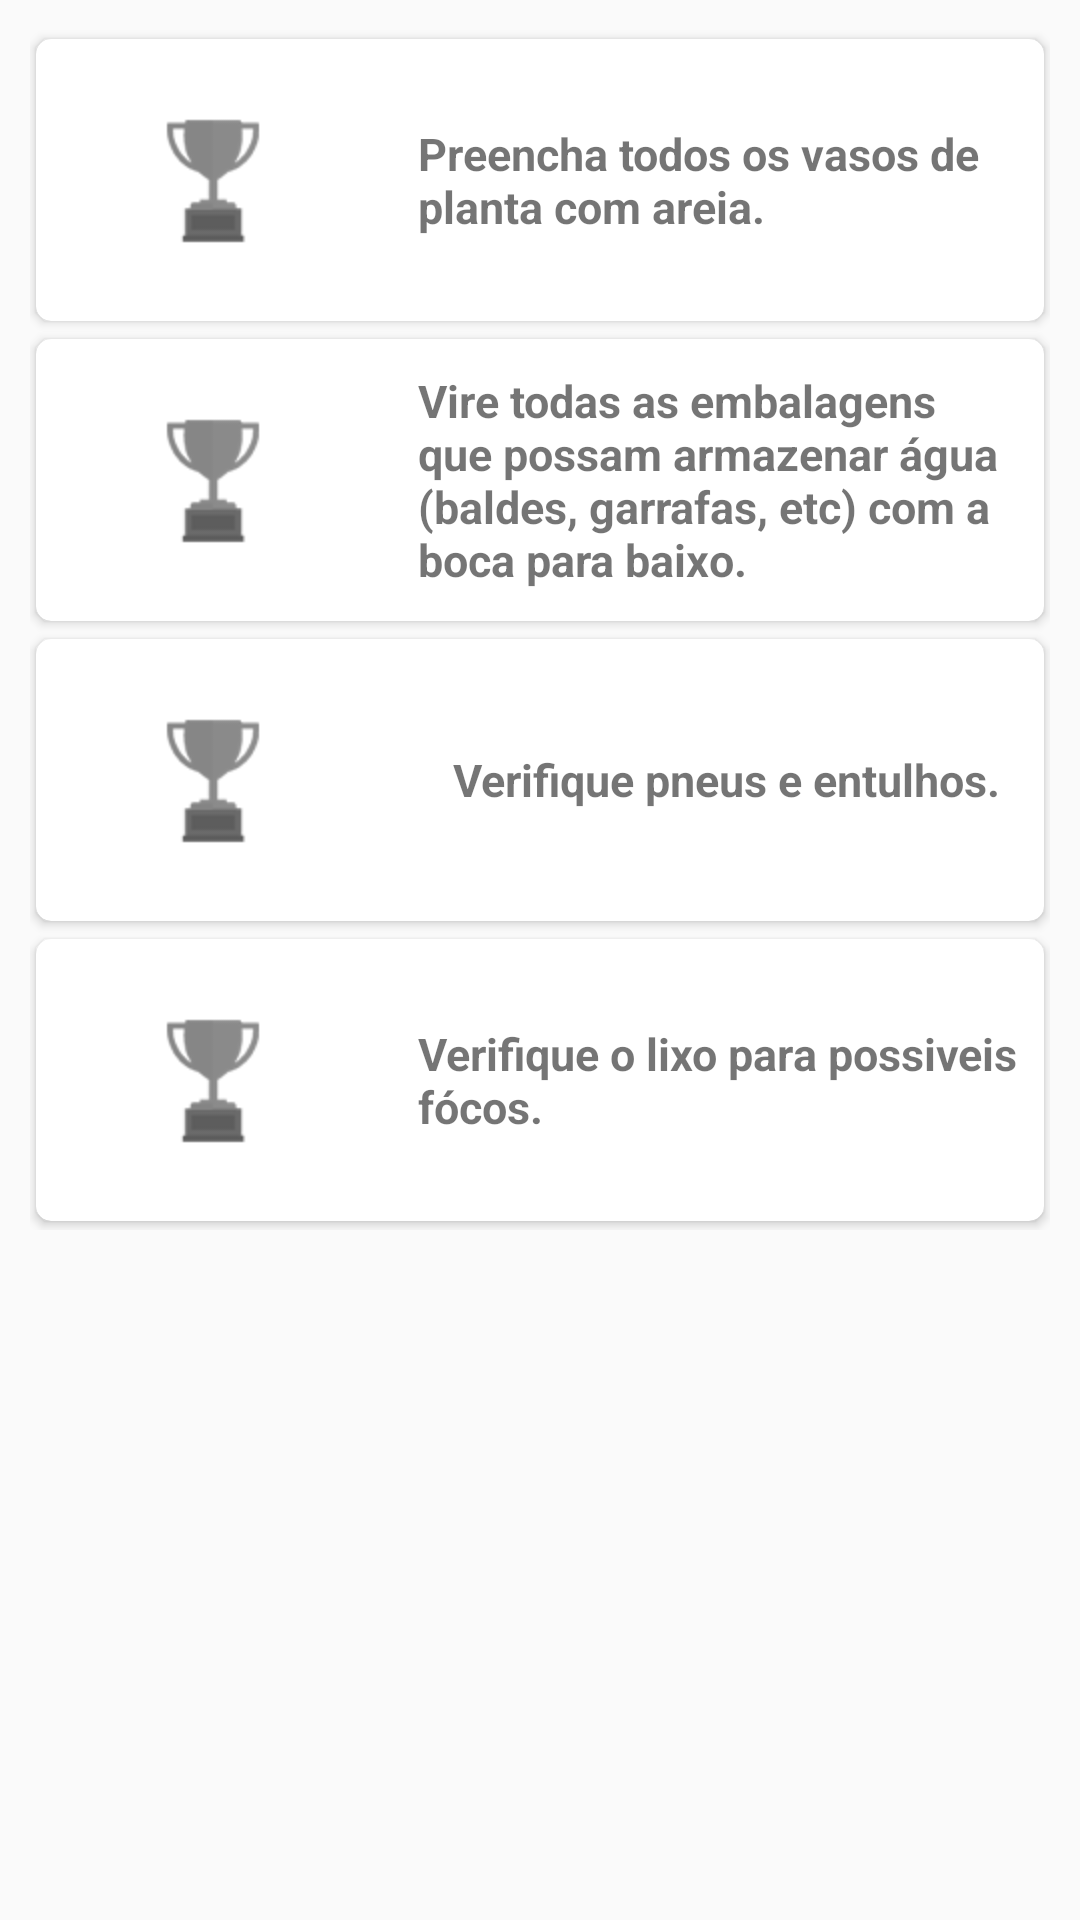

Locate icon controls on the screen. Image size 1080 x 1920, boxes as [x1, y1, x2, y2].
trophy desactive: [166, 119, 260, 243], [166, 419, 260, 543], [166, 719, 260, 843], [166, 1019, 260, 1143]
